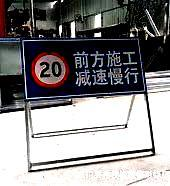sign: (24, 38, 145, 93)
